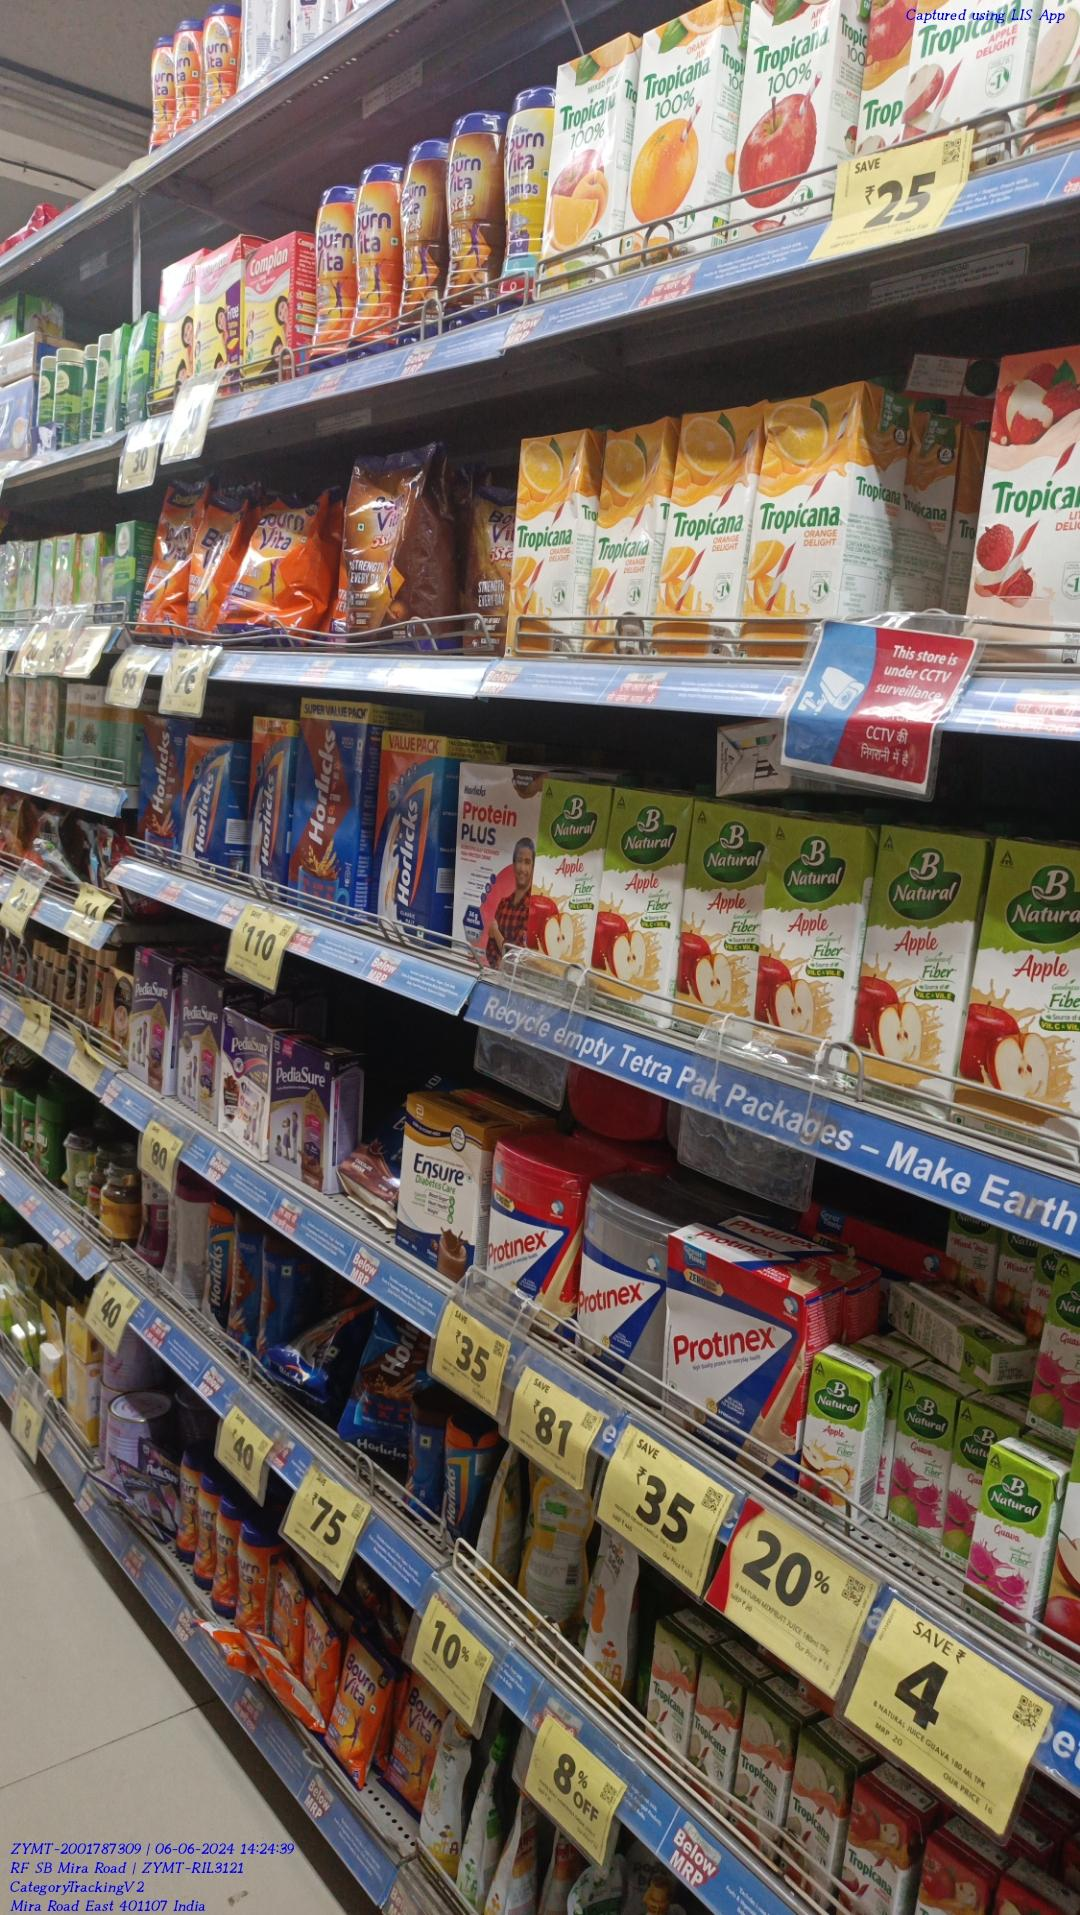PROTINEX_ORIGINAL_400_G_JAR: (585, 1188, 664, 1401)
PROTINEX_VANILLA_400_G_JAR: (491, 1148, 580, 1328)
